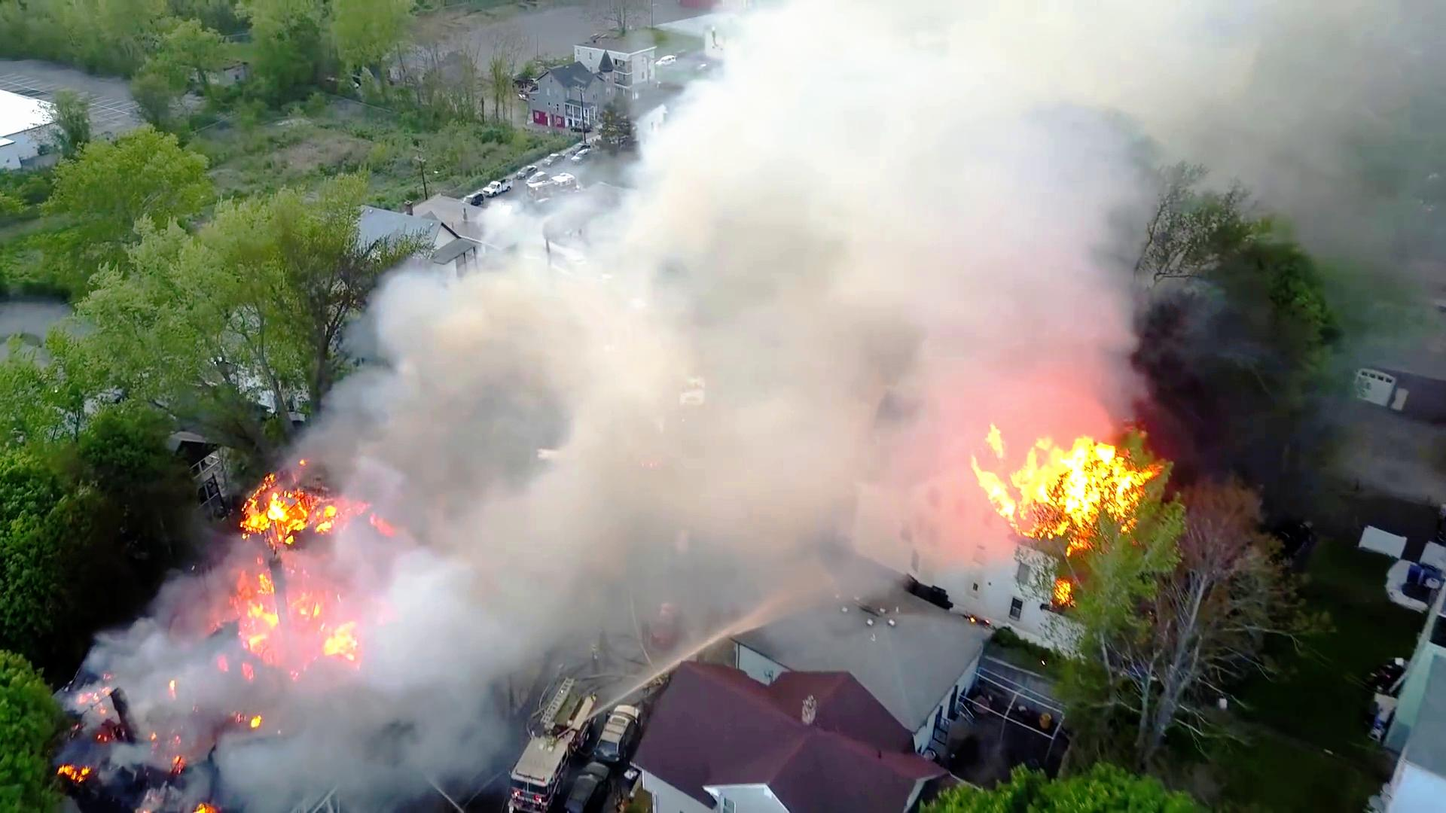fire: (996, 431, 1151, 529), (216, 571, 336, 667), (236, 465, 368, 530), (394, 281, 394, 282)
